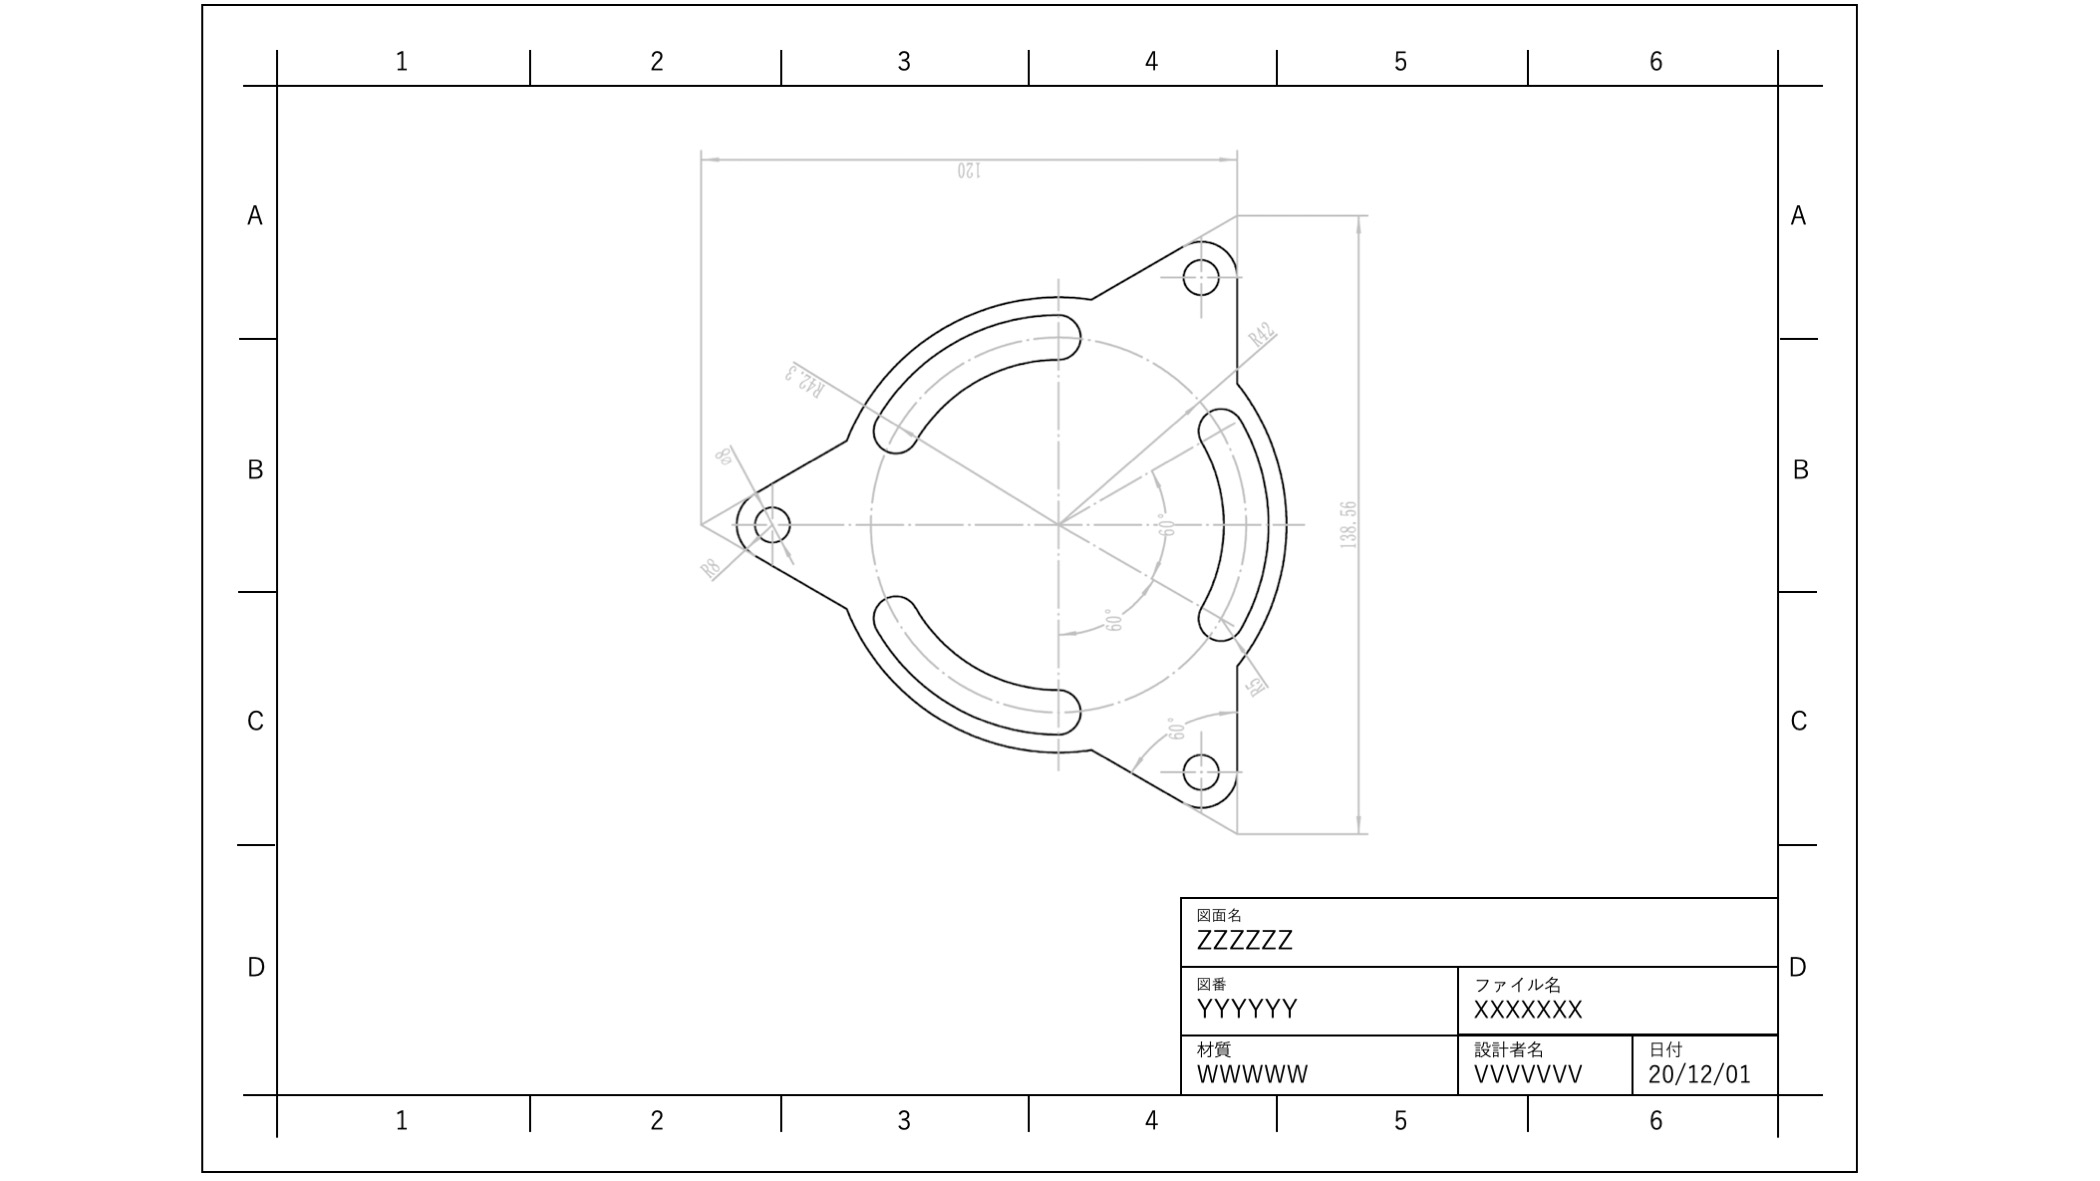circle: (750, 502, 799, 551), (1177, 252, 1223, 303), (1183, 751, 1225, 797)
round_rectangle: (845, 311, 1087, 457), (862, 583, 1080, 741), (1181, 401, 1278, 655)
